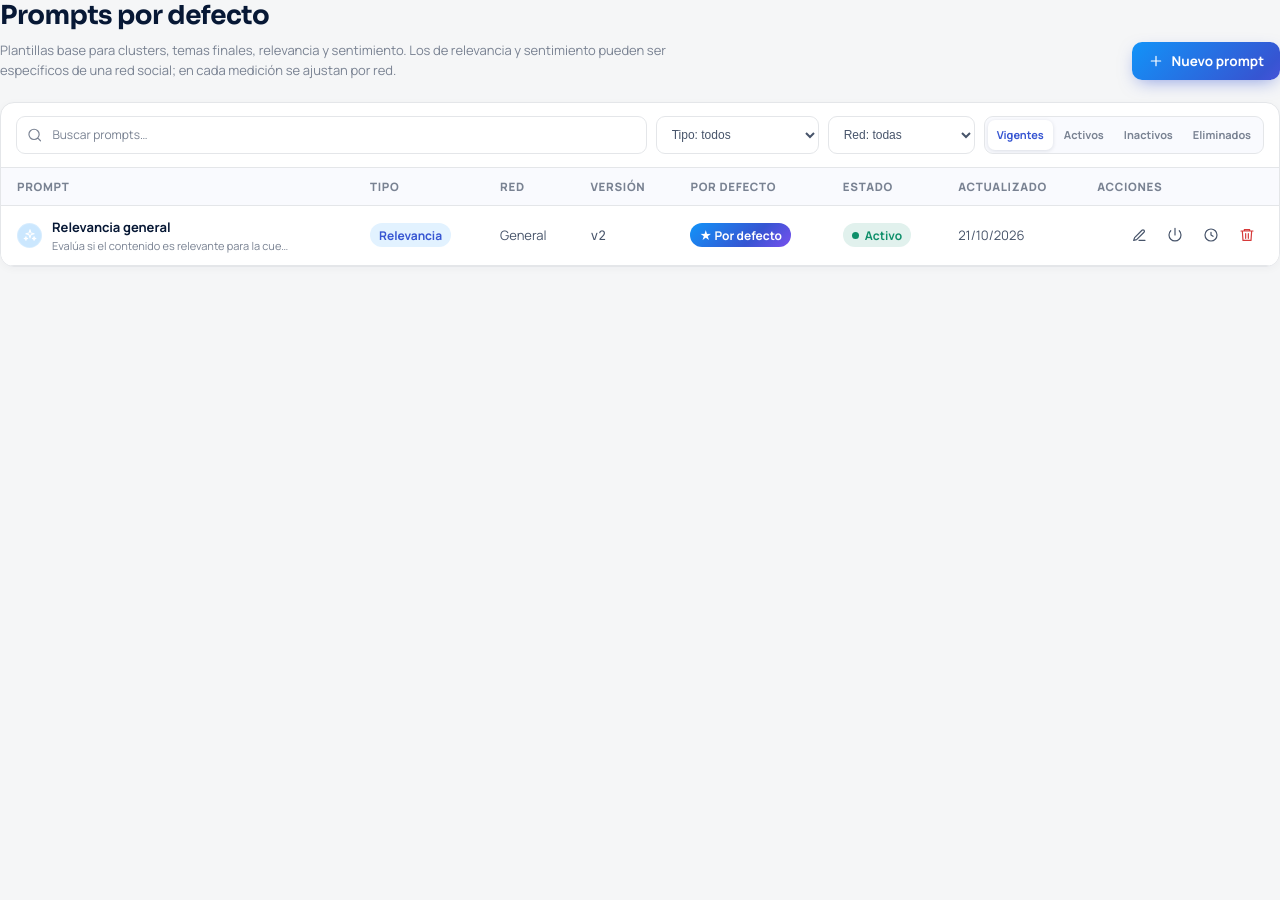
Test: Prompts con el patrón de Clientes › las acciones no navegan al detalle de fila
Click the button named "Eliminar Relevancia general": (1247, 235) [1231, 219, 1263, 251]
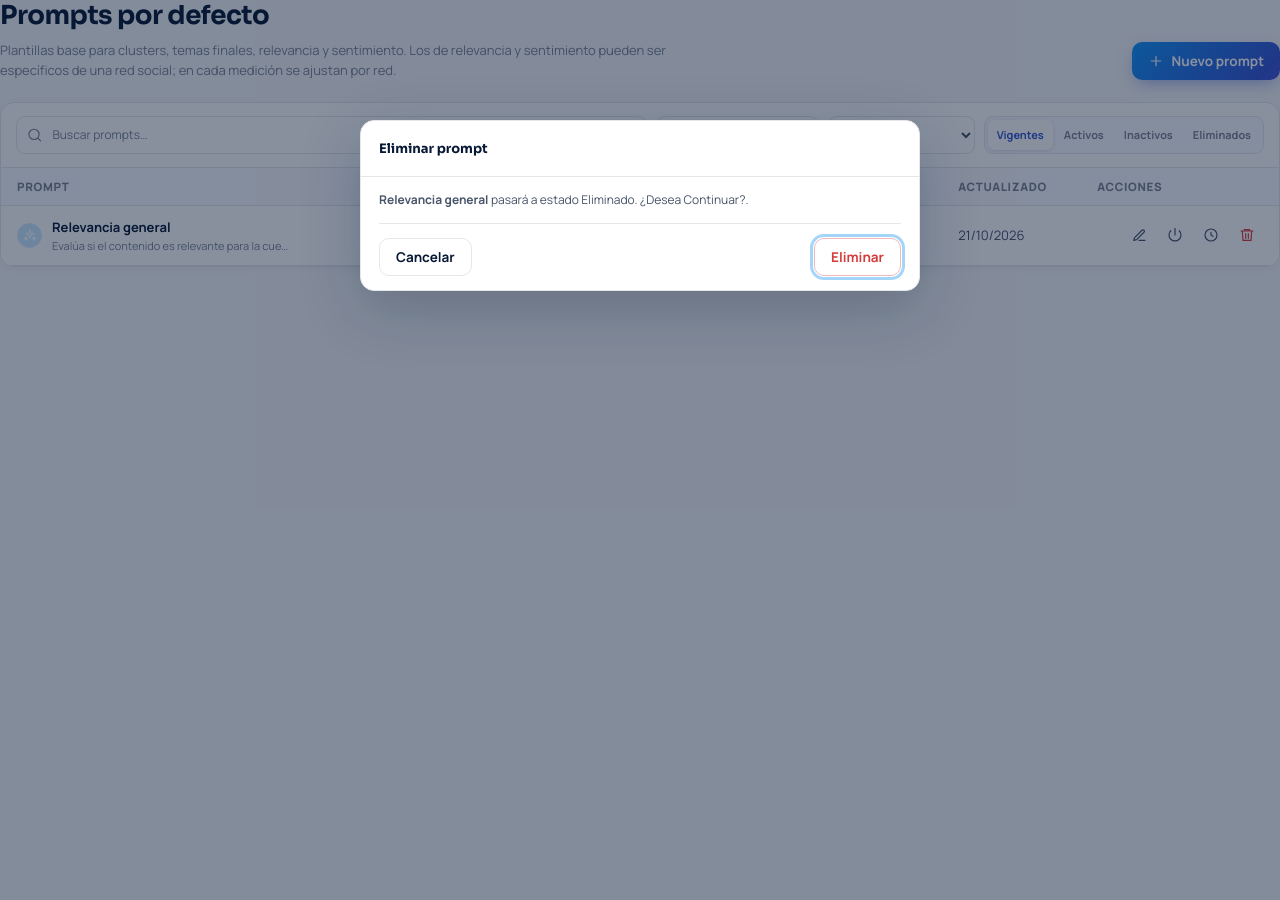
Expected: the dialog "Eliminar prompt" is shown, [360, 120, 920, 291]
